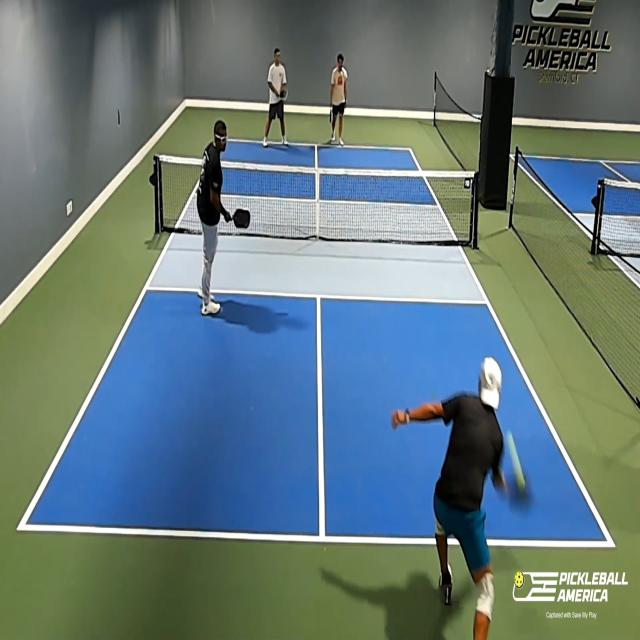Pickleball: (506, 427, 526, 490)
